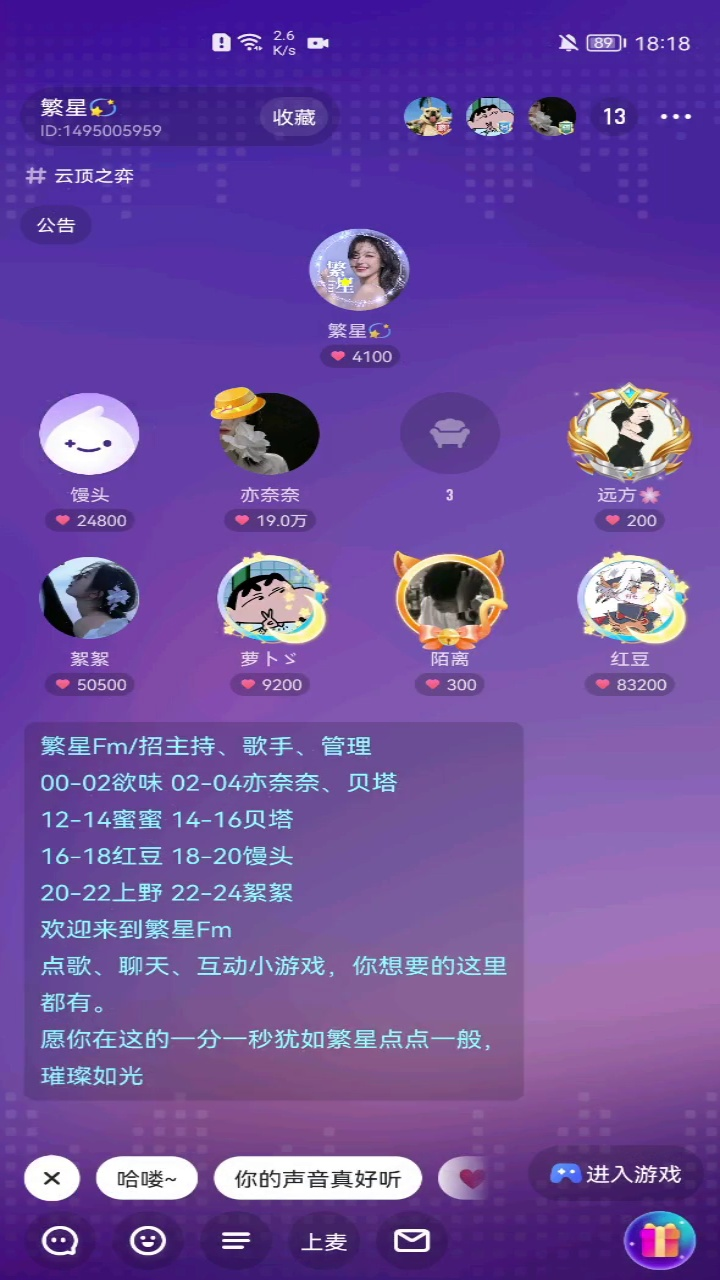avatar: (33, 388, 145, 481)
